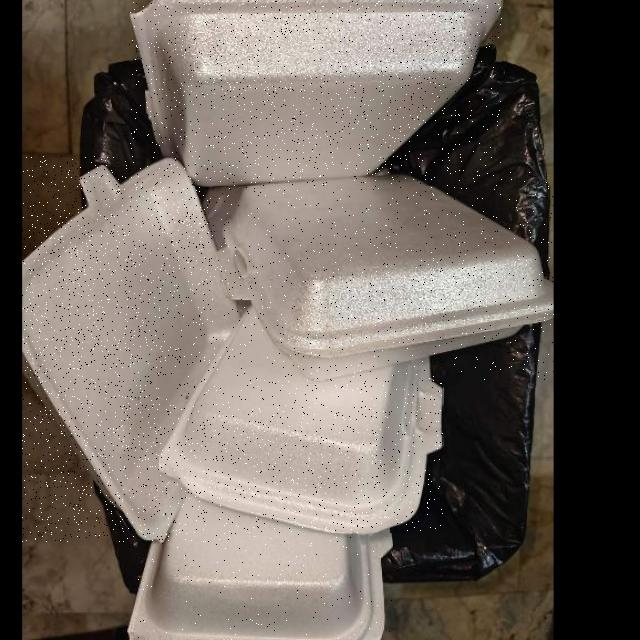styrofoam: (22, 156, 240, 541), (214, 172, 554, 379), (130, 1, 502, 185), (160, 304, 443, 533), (128, 492, 393, 640)
